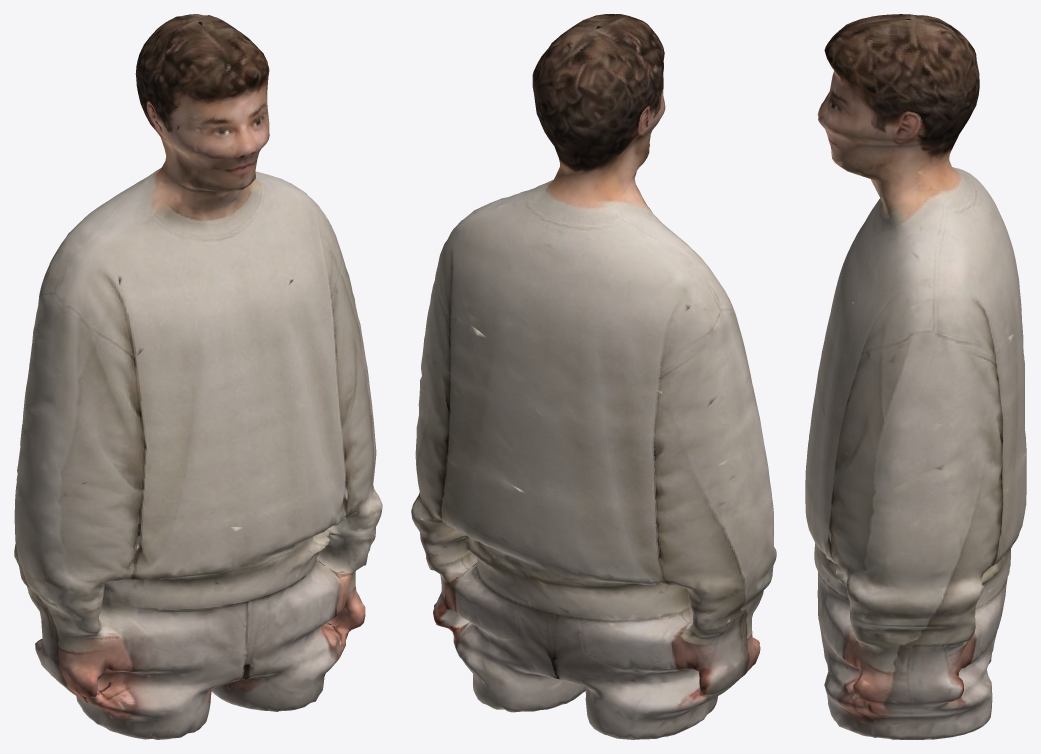
File: oat-model.glb
3 renders of one model, left to right at view 1: azimuth 30°, elevation 25°; view 2: azimuth 150°, elevation 25°; view 3: azimuth 270°, elevation 25°, orthographic.
Parts seen in each view (by area): view 1: geometry_0; view 2: geometry_0; view 3: geometry_0.
Part boxes in pixels (<box>): geometry_0: <box>14,14,382,739</box>; geometry_0: <box>411,14,776,739</box>; geometry_0: <box>805,14,1026,739</box>.
Bounding box in the file's own units: 0.4859 × 0.9376 × 0.2791.
1 material, 1 textured.
